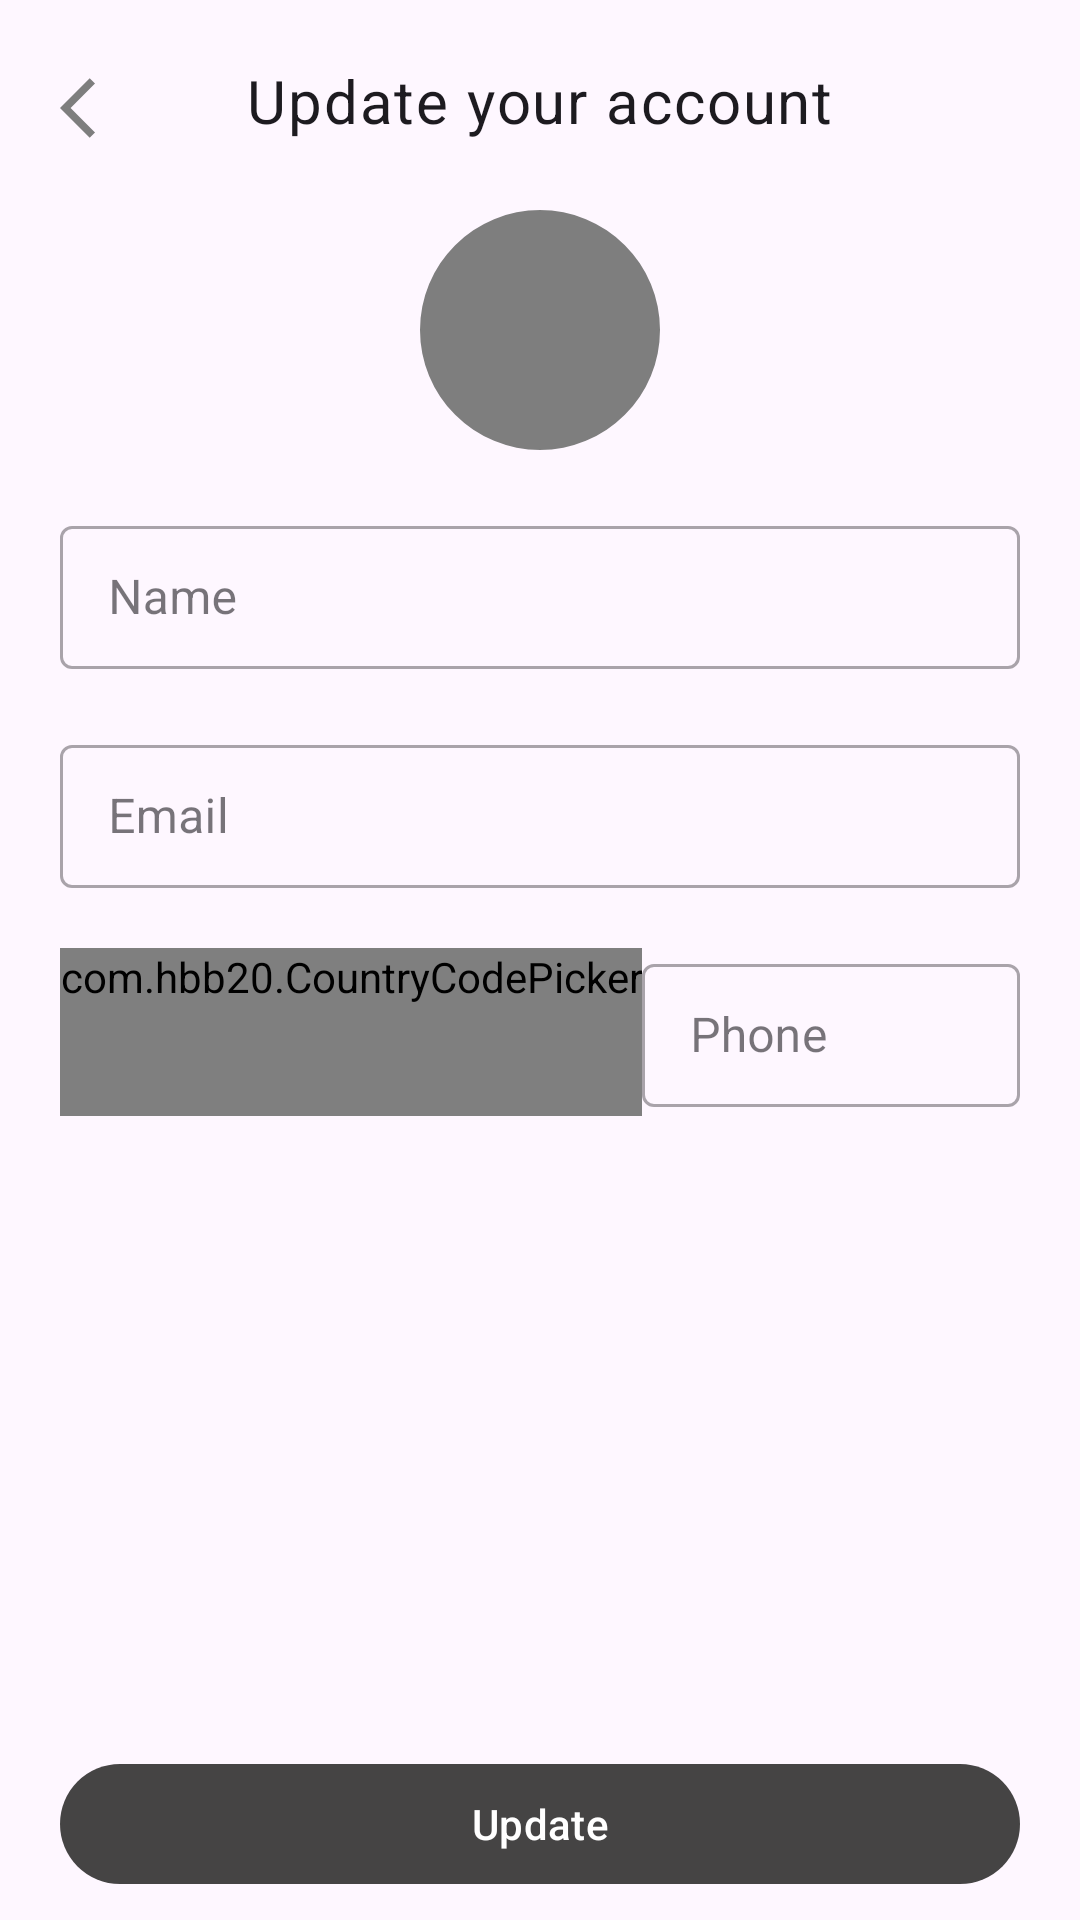

Where to tap for icons on this 1080w x 1920h app screen, as (x,y):
arrow back: (77,108)
